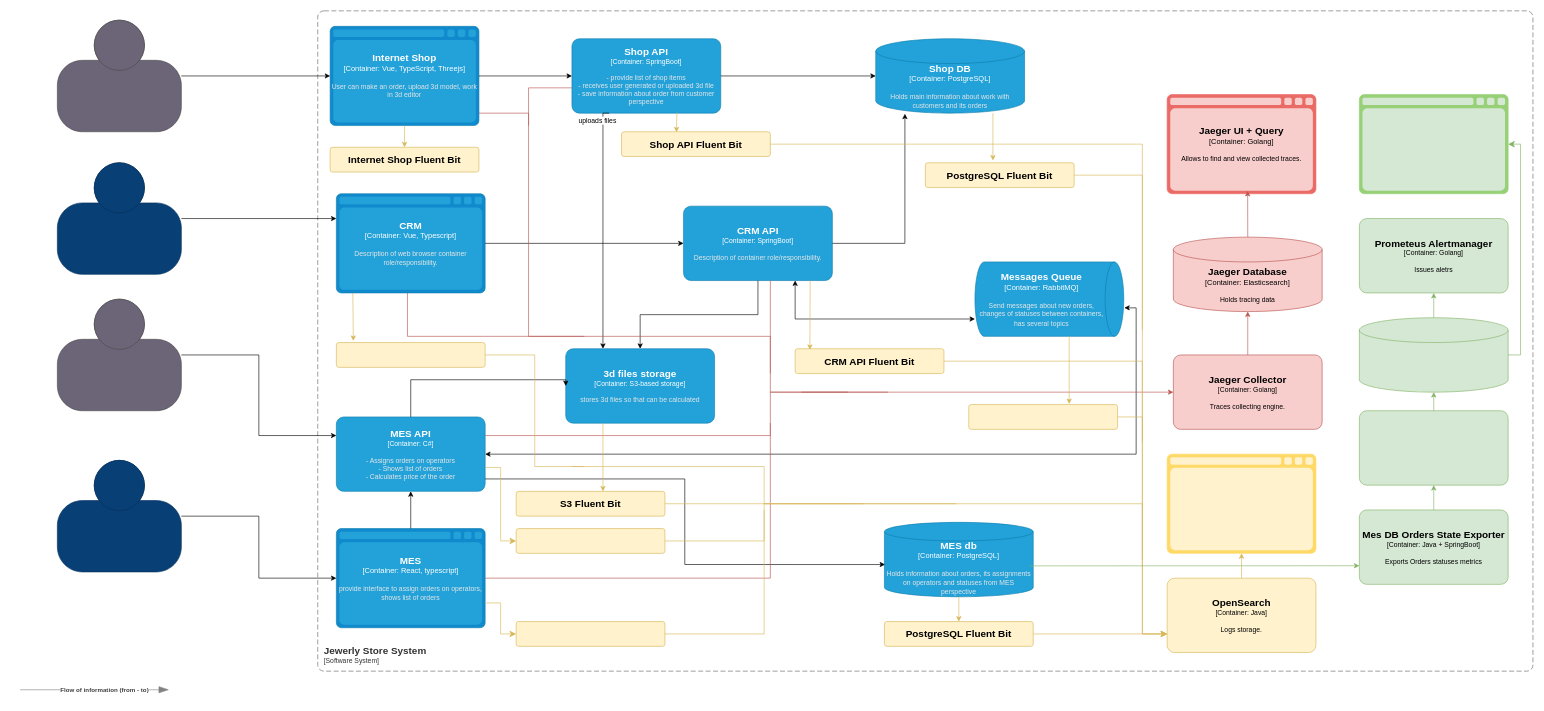
Image size: 1544x711. Some labels were removed from this diagram. The centre of each missing label's shape, as x and y in pixels:
"API user [Person] Description of external person." goes at pixel 119 355.
"CRM Fluent Bit" goes at pixel 410 354.
"Customer [Person] Description of external person." goes at pixel 119 76.
"Grafana [Container: Typescript] Allows to find and view collected traces." goes at pixel 1433 144.
"MES API Fluent Bit" goes at pixel 590 540.
"MES Fluent Bit" goes at pixel 590 633.
"OpenSearch Dashboards [Container: Typescript] Allows users to query logs." goes at pixel 1241 503.
"Operator [Person] Takes order in work, manufactures jewerly" goes at pixel 119 516.
"Prometeus Server [Container: Golang] Stores metrics" goes at pixel 1433 447.
"Prometheus Database [Container: TSDB] Prometheus TSDB" goes at pixel 1433 354.
"RabbitMQ Fluent Bit" goes at pixel 1043 416.
"Seller [Person] Operates with order, confirms manufacturing for the user" goes at pixel 119 218.
